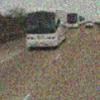buses: (24, 7, 68, 50)
